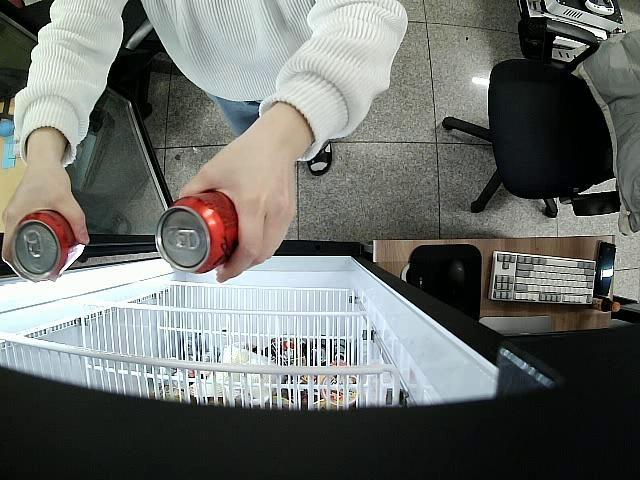11_cocaColaZero: (154, 188, 237, 272), (11, 208, 86, 281)
